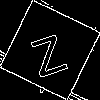Z: (25, 25, 69, 78)
